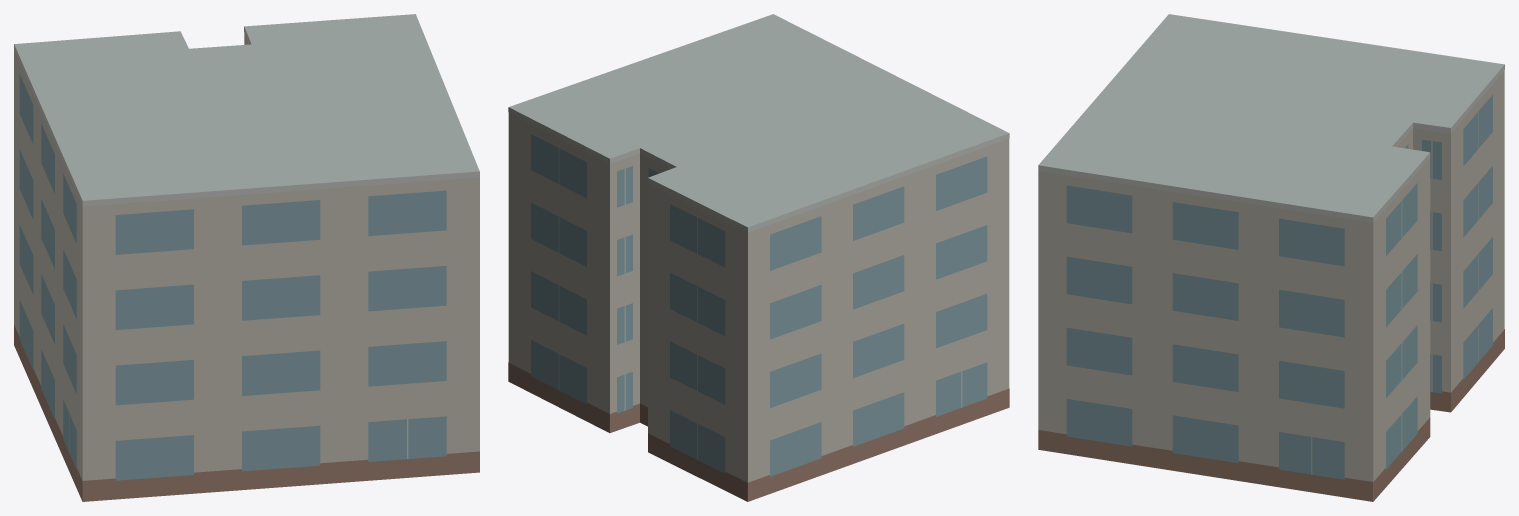
The model's file is survey-upis-32848732.glb.
The picture shows the model from 3 angles, left to right: view 1: azimuth 30°, elevation 25°; view 2: azimuth 150°, elevation 25°; view 3: azimuth 270°, elevation 25°; orthographic projection. The views are drawn at different scales.
Visible parts, largest first — view 1: survey-upis-32848732.tmp; view 2: survey-upis-32848732.tmp; view 3: survey-upis-32848732.tmp.
Boxes of the visible parts, x1,y1,x2,y2 form: survey-upis-32848732.tmp: (14, 14, 479, 501); survey-upis-32848732.tmp: (508, 14, 1009, 501); survey-upis-32848732.tmp: (1038, 14, 1504, 501).
Size of the model in its own units: 19.34 by 12.6 by 18.74.
